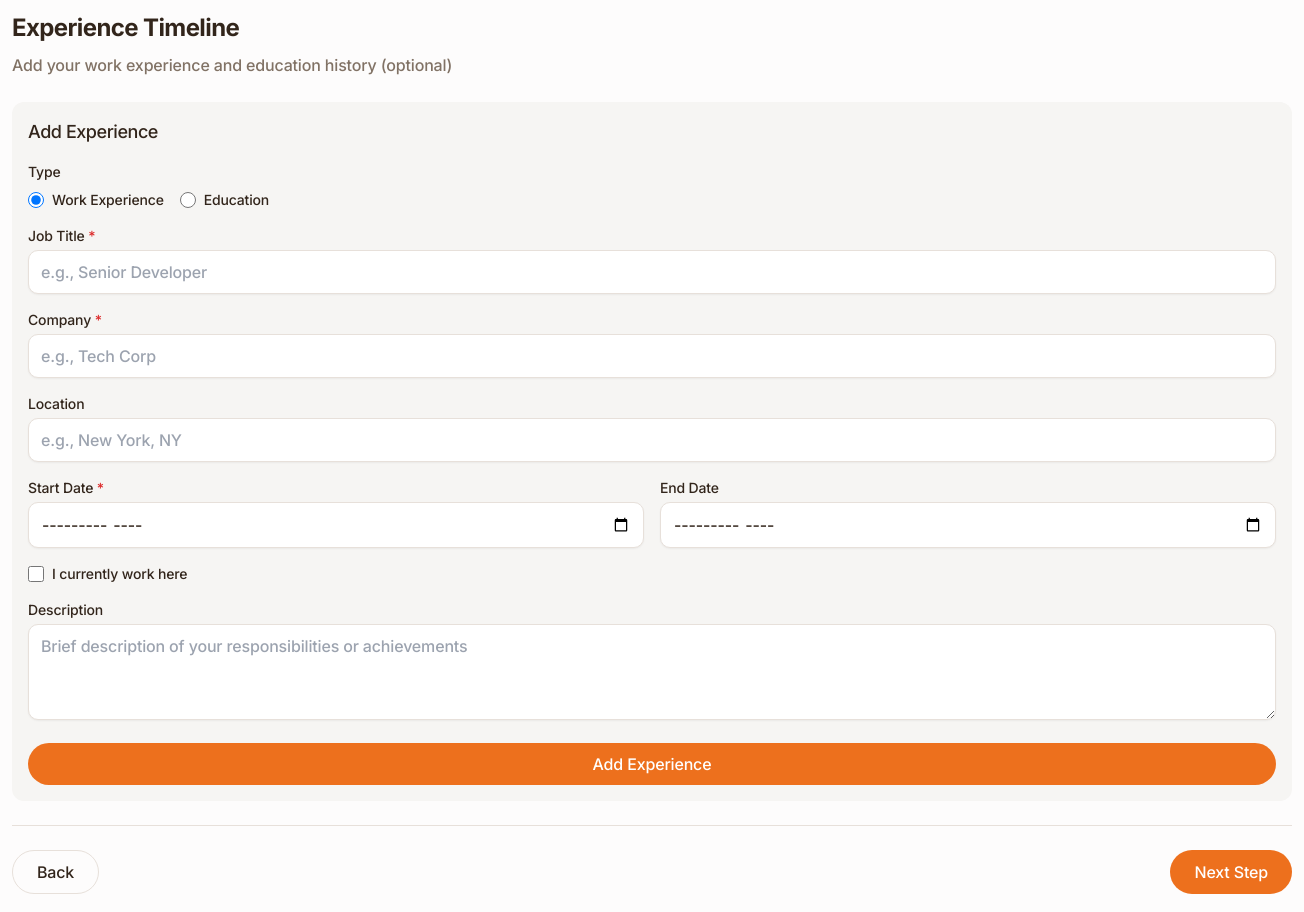
Test: Step3ExperienceTimeline › Type Selection › shows education-specific labels when education type is selected
This screenshot has width=1304, height=912.
Click the radio button labelled "Education" at (188,200), box [180, 192, 196, 208]
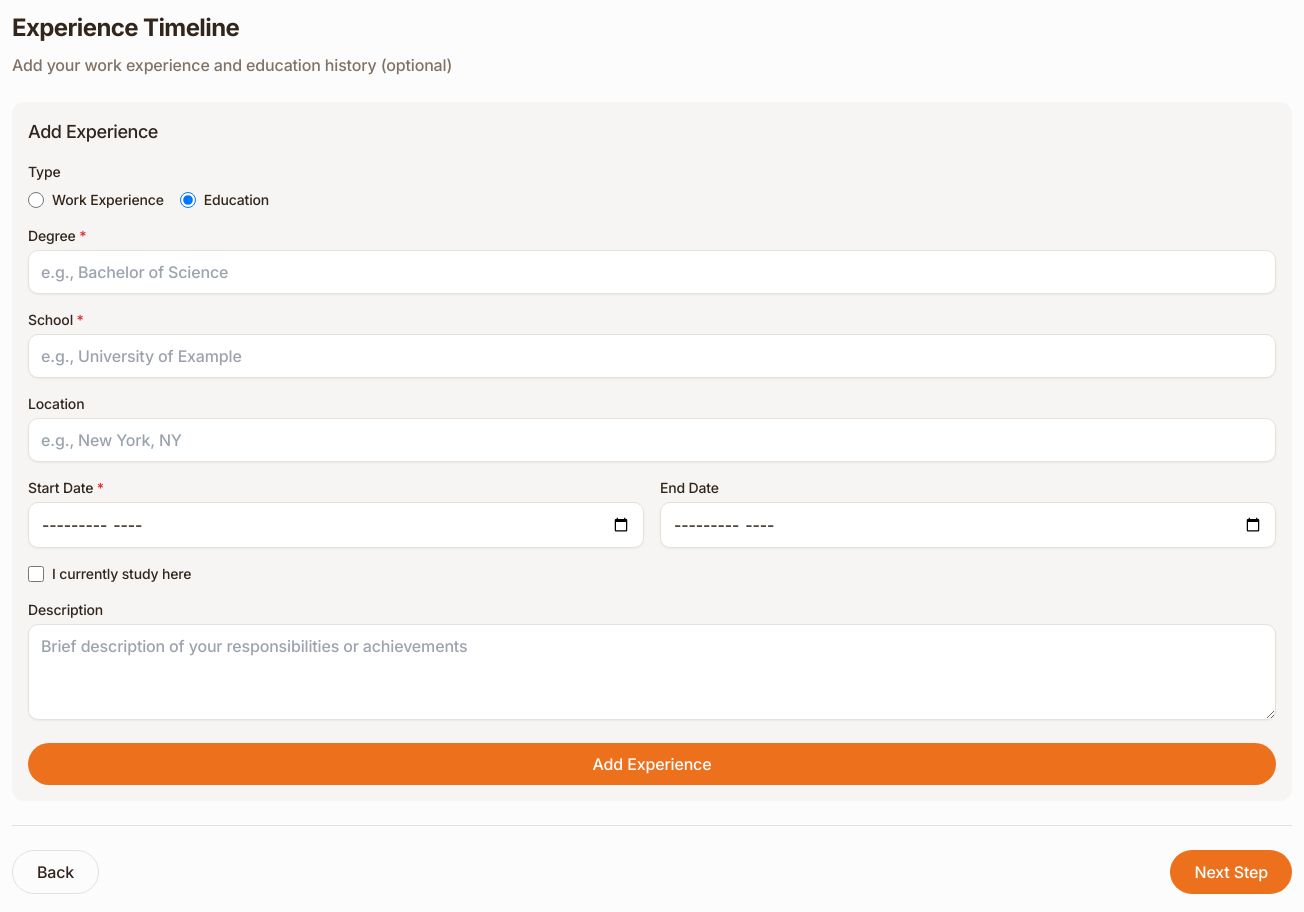
Expected: the field labelled "Degree *" is shown, [28, 250, 1276, 294]
Expected: the text "I currently study here" is shown, [52, 564, 191, 584]
